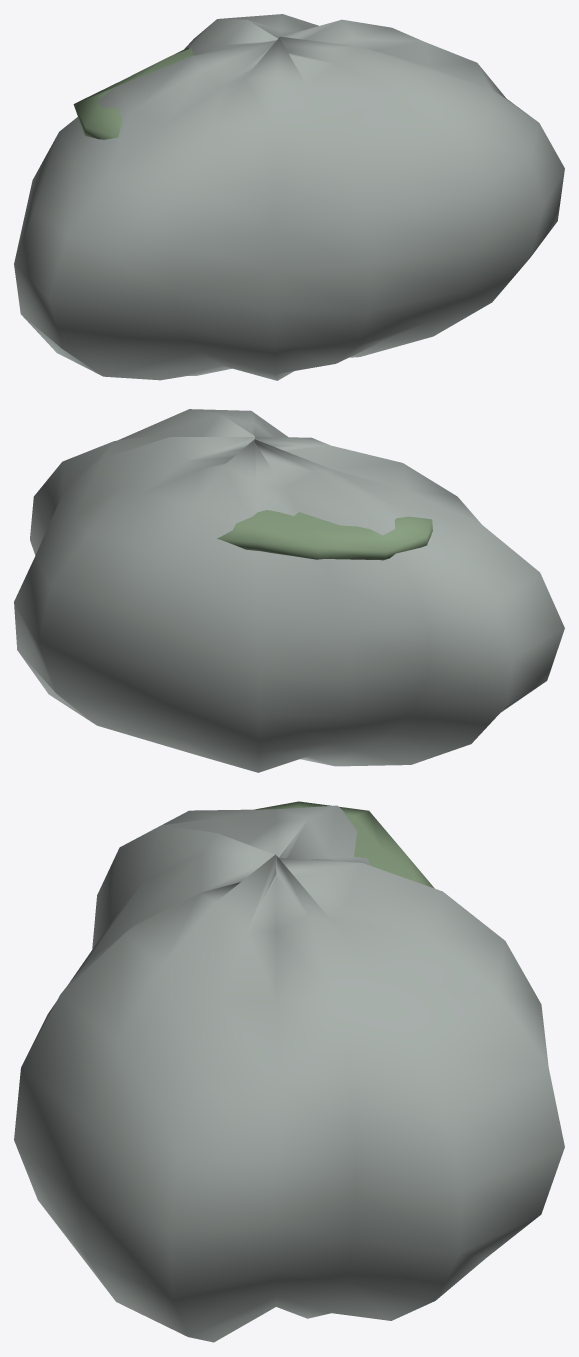
The model's file is SM_Rock_01_UV_0111.fbx.
The picture shows the model from 3 angles, top to bottom: view 1: azimuth 30°, elevation 25°; view 2: azimuth 150°, elevation 25°; view 3: azimuth 270°, elevation 25°; orthographic projection. The views are drawn at different scales.
Parts seen in each view (by area): view 1: SM_Rock_01_UV_0111; view 2: SM_Rock_01_UV_0111; view 3: SM_Rock_01_UV_0111.
Boxes of the visible parts, left/top/right/bottom form: SM_Rock_01_UV_0111: left=14, top=14, right=564, bottom=380; SM_Rock_01_UV_0111: left=14, top=409, right=564, bottom=772; SM_Rock_01_UV_0111: left=14, top=801, right=564, bottom=1342.
Bounding box in the file's own units: 493 × 337 × 295.
